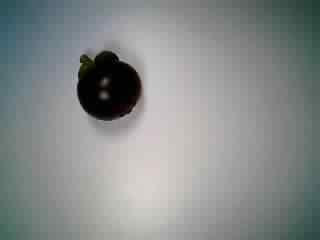mangosteen: (72, 44, 147, 128)
